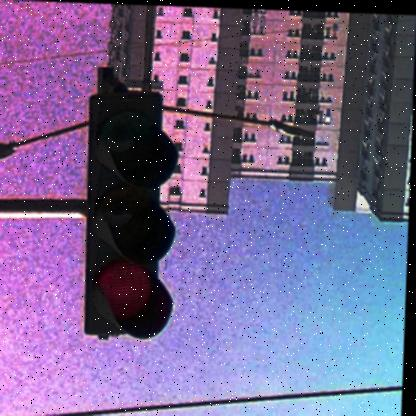Traffic Light -Red-: (87, 91, 180, 339)
